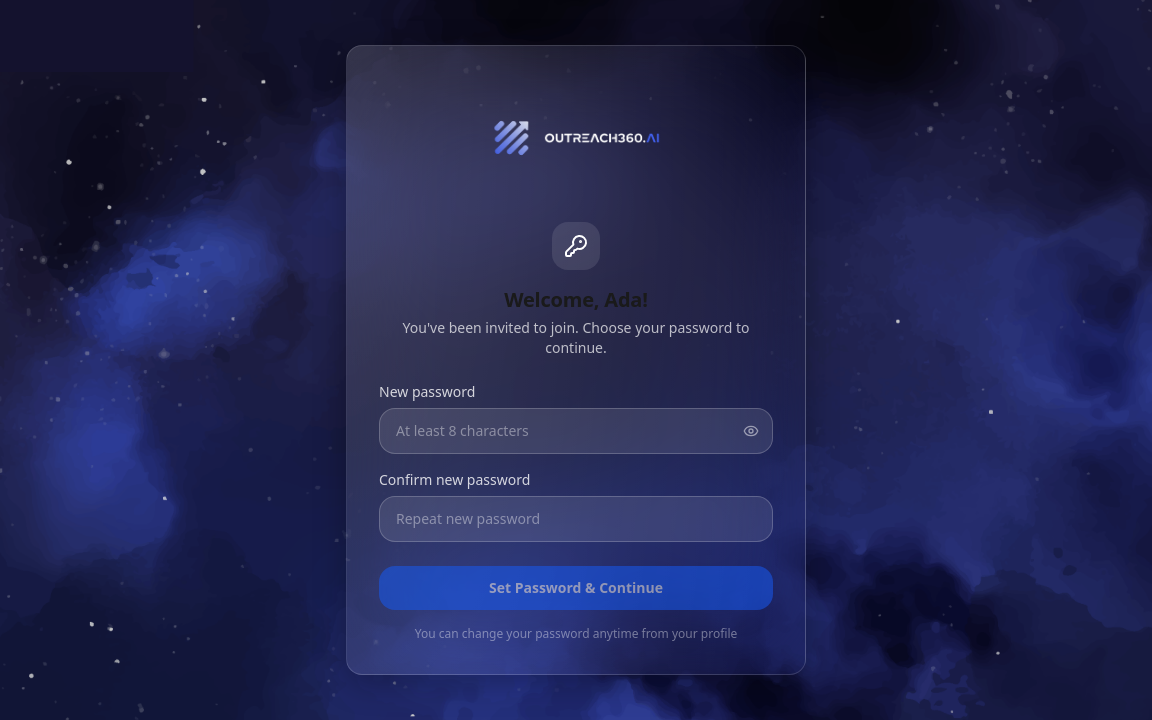
Test: SetPassword page › requires 8 characters
Type "short" into the password field with placeholder "At least 8 characters" at (576,431), box [379,408,773,454]
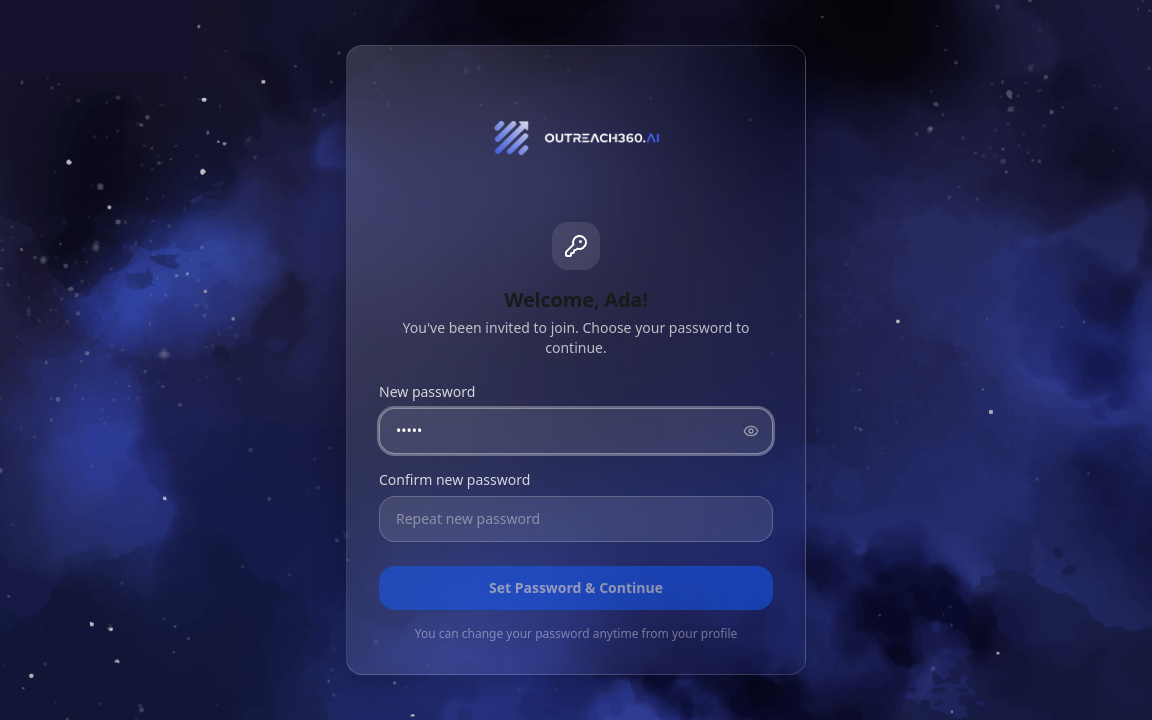
Type "short" into the password field with placeholder "Repeat new password" at (576,519), box [379,496,773,542]
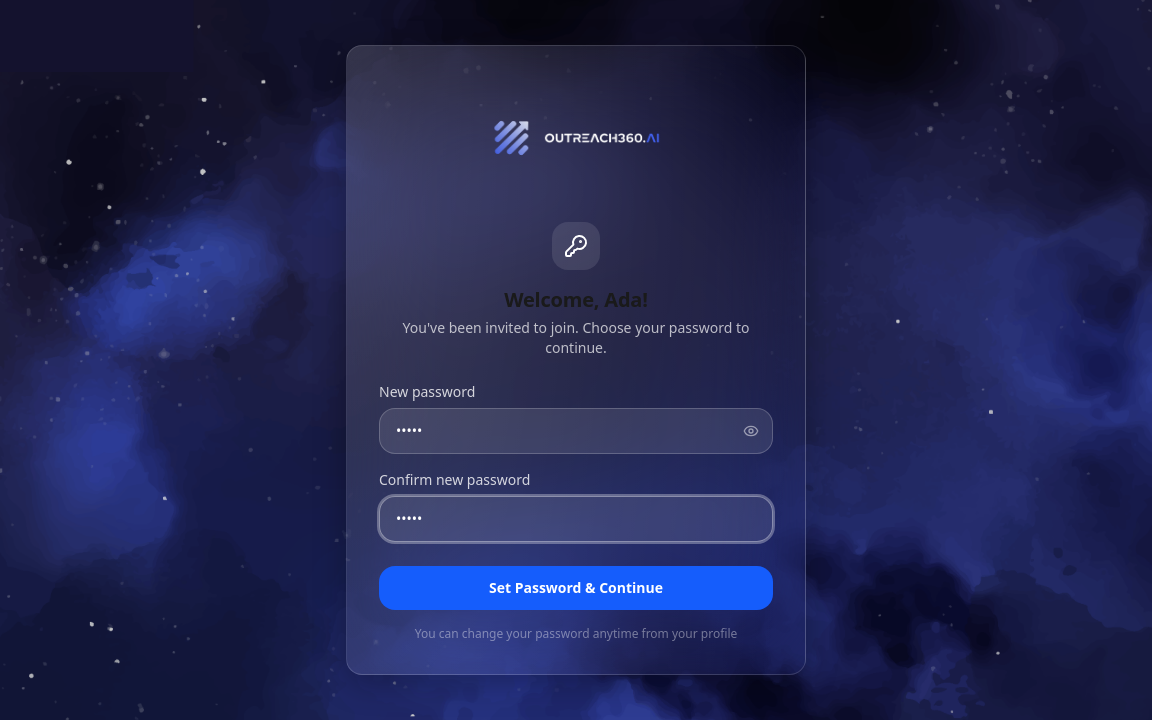
Click the button "Set Password & Continue" at (576,588), box [379,566,773,610]
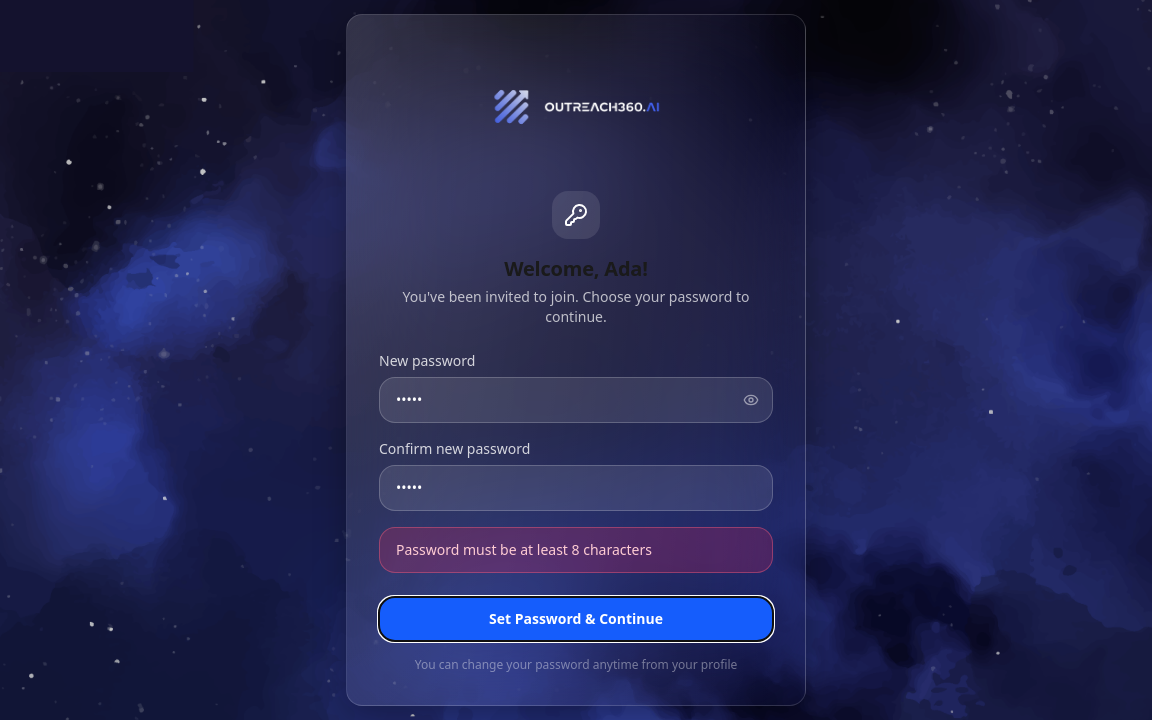
Expected: the text "Password must be at least 8 characters" is shown, [379,527,773,573]
